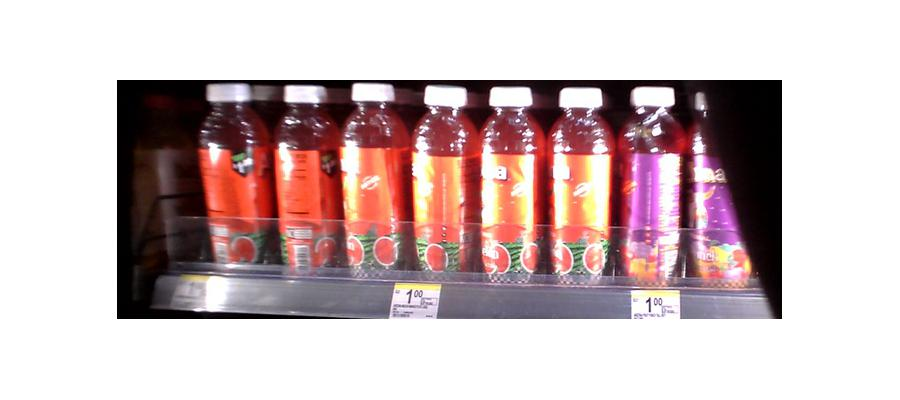bottle: (198, 77, 271, 269), (688, 78, 753, 290), (341, 80, 407, 278), (547, 86, 611, 287), (618, 85, 682, 285), (272, 81, 336, 276), (411, 84, 475, 278), (478, 87, 542, 279)
